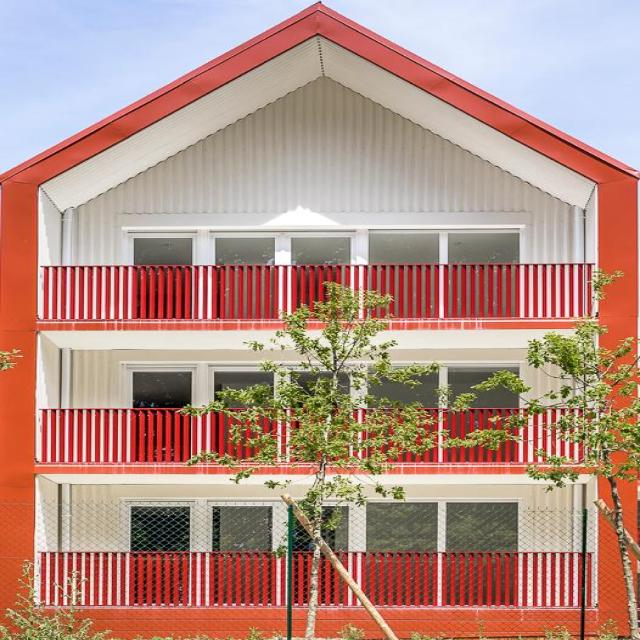railing: (43, 552, 601, 611), (42, 267, 590, 319), (41, 410, 588, 460)
window: (126, 502, 518, 550), (135, 372, 521, 408), (131, 232, 516, 265)
